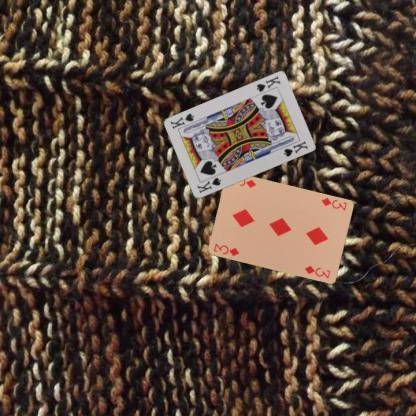3d: (318, 195, 348, 212), (211, 241, 240, 257)
Ks: (194, 175, 223, 195), (254, 74, 282, 93)
